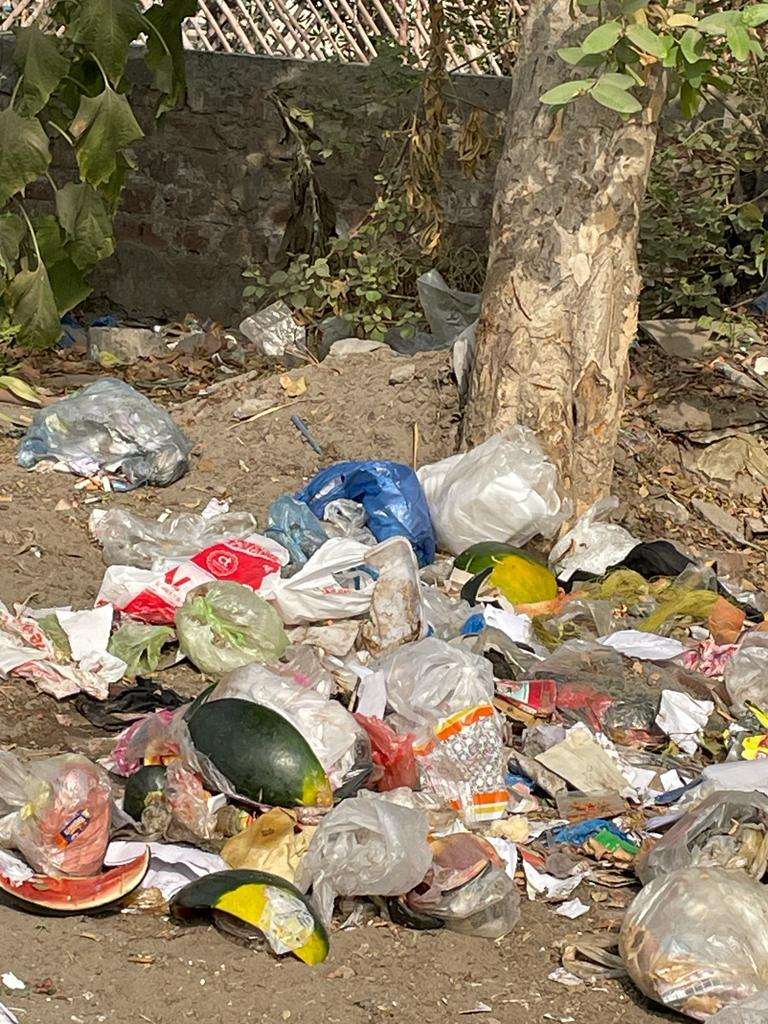garbage: (0, 420, 768, 956)
